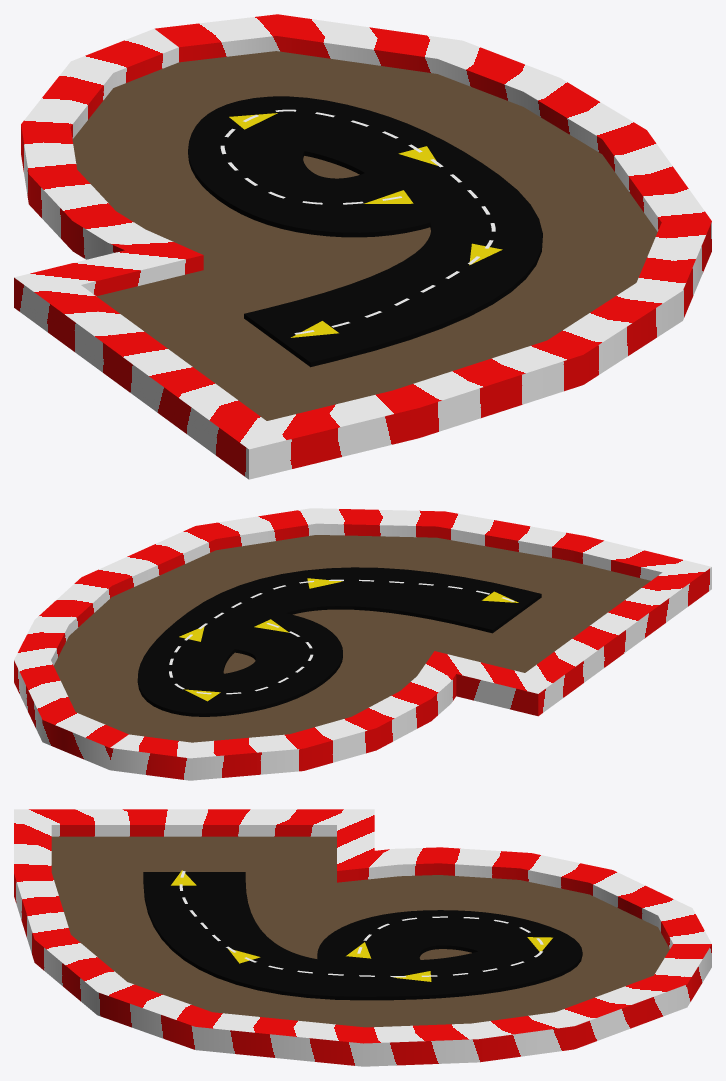
File: waw.FBX
3 renders of one model, top to bottom at view 1: azimuth 30°, elevation 25°; view 2: azimuth 150°, elevation 25°; view 3: azimuth 270°, elevation 25°, orthographic. The views are drawn at different scales.
Parts seen in each view (by area): view 1: waw_floor, waw_coll, waw, line0; view 2: waw_coll, waw_floor, waw, line0; view 3: waw_coll, waw_floor, waw, line0.
Part boxes in pixels (x1,y1,x2,y2): waw_floor: (72, 51, 657, 420); waw_coll: (14, 14, 711, 479); waw: (188, 96, 542, 367); line0: (220, 109, 495, 334); waw_coll: (14, 508, 711, 780); waw_floor: (54, 535, 650, 742); waw: (137, 567, 541, 716); line0: (169, 579, 514, 694); waw_coll: (14, 809, 711, 1066); waw_floor: (51, 836, 669, 1027); waw: (143, 872, 582, 1000); line0: (179, 871, 543, 977).
Bounding box in the file's own units: 708 × 32.76 × 892.
